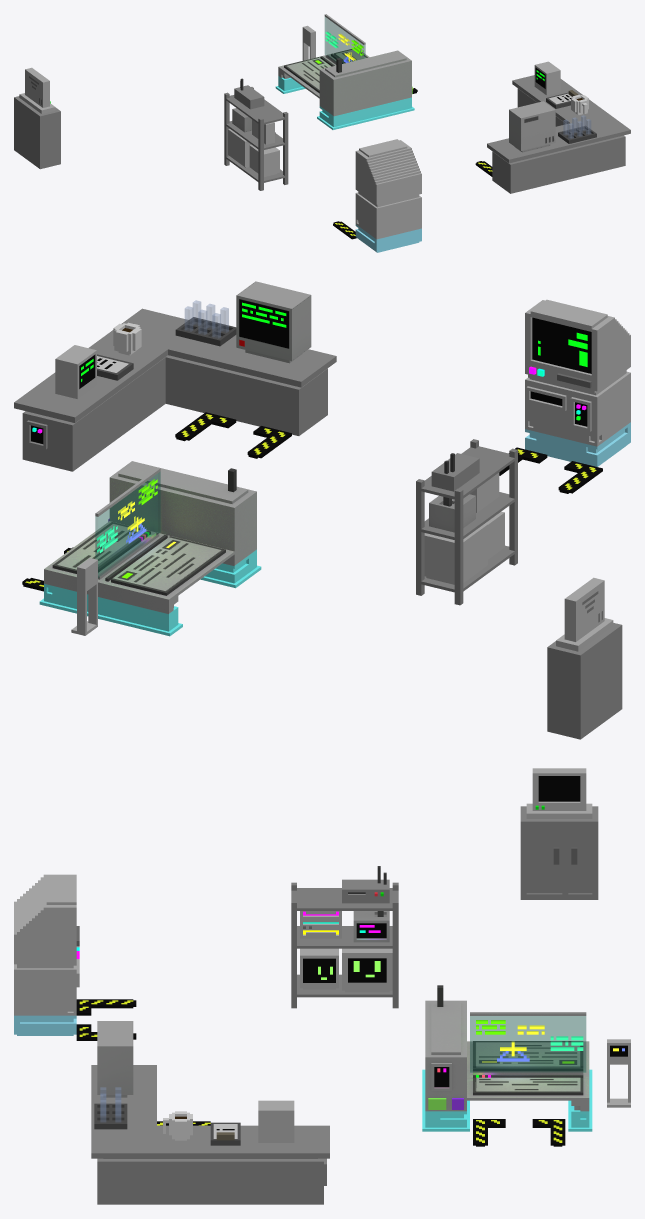
The model's file is SceneNotComplete.glb.
3 views of the same model, one above another, from view 1: azimuth 30°, elevation 25°; view 2: azimuth 150°, elevation 25°; view 3: azimuth 270°, elevation 25° (orthographic). The views are drawn at different scales.
Visible parts, largest first — view 1: interact_table, m_table, Terminal, cleat.001, closet, b_comp, monitor, s_comp, chemicals, m_comp_face.001, l_comp_face.001, radio.001 (+4 smaller); view 2: m_table, interact_table, Terminal, closet, cleat.001, b_comp, monitor, l_comp_face.001, s_comp, chemicals, interact_zone.001, Untitled.001 (+6 smaller); view 3: m_table, interact_table, Terminal, closet, cleat.001, monitor, b_comp, l_comp_face.001, m_comp_face.001, s_comp, radio.001, amper.001 (+7 smaller).
Part boxes in pixels (x1,y1,x2,y2): interact_table: (275, 14, 414, 129); m_table: (487, 75, 630, 193); Terminal: (355, 139, 421, 252); cleat.001: (224, 87, 288, 190); closet: (14, 96, 60, 169); b_comp: (509, 101, 555, 152); monitor: (19, 67, 55, 113); s_comp: (534, 61, 560, 95); chemicals: (558, 115, 596, 143); m_comp_face.001: (249, 144, 279, 176); l_comp_face.001: (228, 129, 251, 167); radio.001: (234, 78, 264, 109); m_table: (14, 308, 336, 471); interact_table: (39, 461, 261, 636); Terminal: (525, 299, 630, 466); closet: (547, 623, 622, 739); cleat.001: (416, 439, 517, 605); b_comp: (236, 281, 311, 363); monitor: (556, 577, 613, 651); l_comp_face.001: (424, 523, 487, 584); s_comp: (55, 345, 96, 398); chemicals: (175, 300, 236, 346); interact_zone.001: (175, 412, 291, 458); Untitled.001: (71, 558, 97, 635); m_table: (91, 1065, 329, 1204); interact_table: (422, 985, 592, 1131); Terminal: (14, 874, 79, 1035); closet: (520, 806, 598, 899); cleat.001: (291, 882, 398, 1008); monitor: (526, 768, 592, 818); b_comp: (97, 1021, 133, 1097); l_comp_face.001: (342, 948, 392, 992); m_comp_face.001: (300, 948, 338, 989); s_comp: (258, 1100, 294, 1142); radio.001: (342, 866, 389, 903); amper.001: (353, 911, 389, 942).
Size of the model in its own units: 25.6 by 4.9 by 20.7.
Materials: 32 (20 with a texture image).
